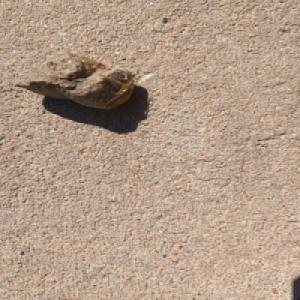Rock: (11, 50, 137, 110)
